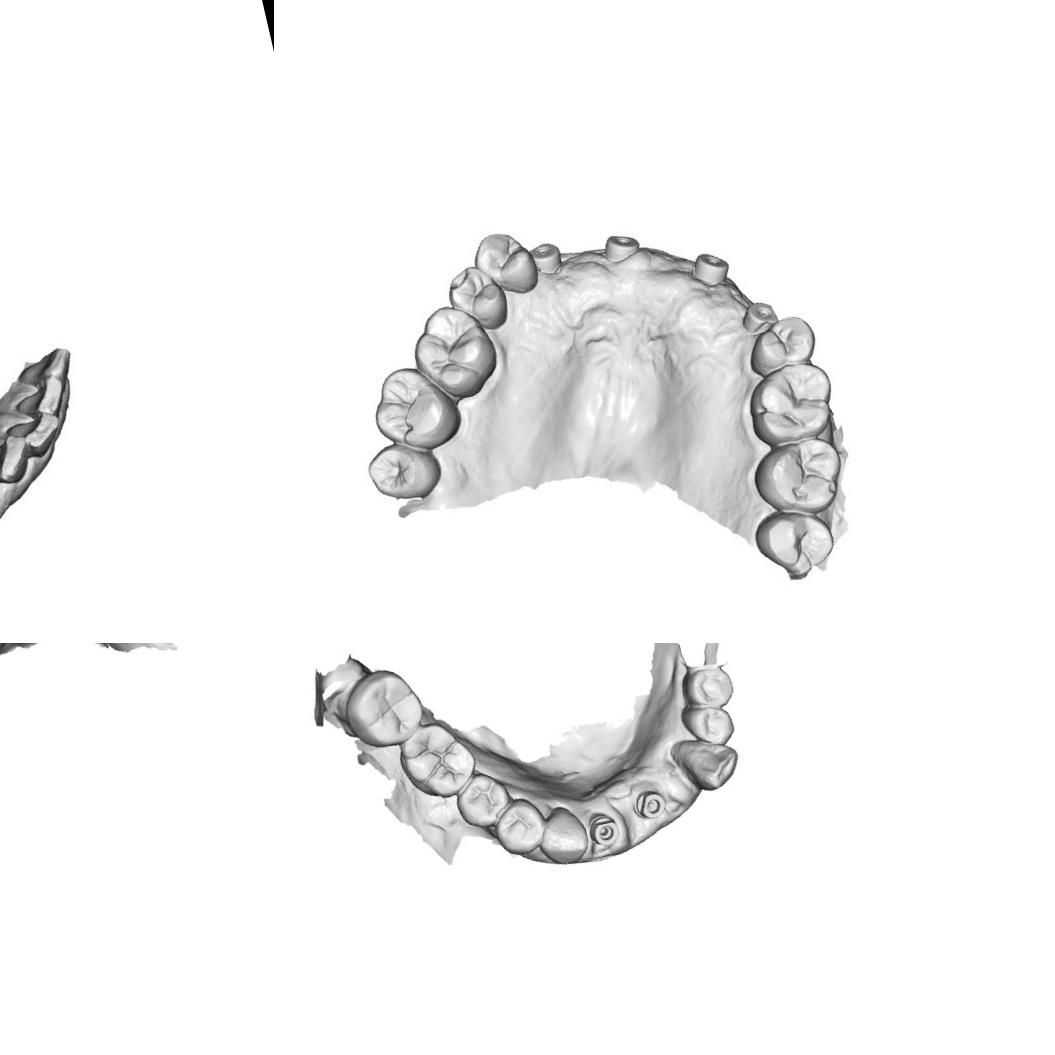canine: (668, 726, 746, 799), (531, 802, 593, 870)
implant: (681, 242, 736, 293), (596, 222, 647, 269), (736, 292, 784, 337), (524, 234, 568, 279), (584, 807, 624, 850), (628, 786, 670, 824)
incisor: (18, 376, 70, 420), (9, 414, 63, 454), (0, 437, 31, 483)
molar: (402, 294, 506, 410), (740, 352, 848, 454), (362, 357, 465, 461), (744, 430, 855, 526), (337, 661, 431, 756), (391, 714, 484, 806), (746, 499, 842, 588), (362, 433, 446, 508)
premolar: (467, 223, 544, 303), (738, 309, 821, 381), (441, 258, 513, 340), (486, 792, 554, 862), (449, 767, 516, 834), (677, 696, 738, 754), (676, 659, 738, 716)
